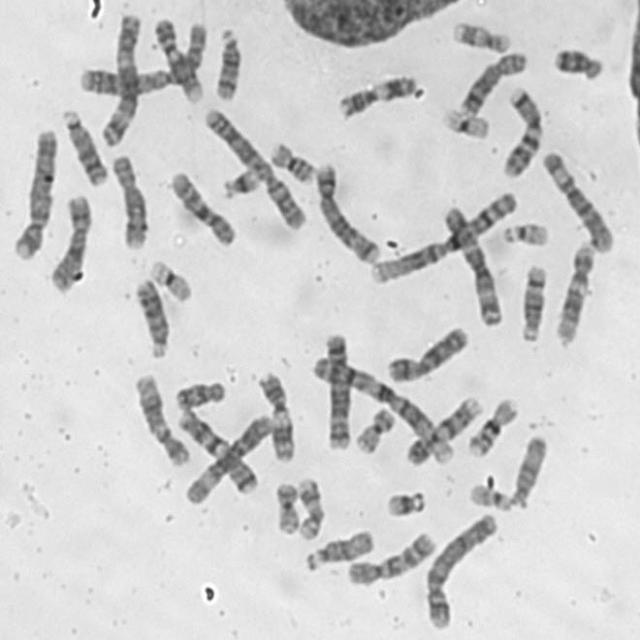A1: (310, 353, 455, 468), (366, 187, 518, 285)
A2: (203, 106, 308, 232), (74, 18, 208, 100)
A3: (439, 200, 505, 328), (97, 8, 143, 148)
B4: (421, 510, 499, 631), (9, 124, 59, 261)
B5: (312, 158, 382, 266), (320, 327, 353, 453)
C10: (166, 166, 237, 250), (344, 527, 439, 587)
C11: (334, 70, 419, 120), (256, 368, 296, 463)
C12: (132, 369, 191, 468), (551, 240, 596, 346)
C6: (180, 410, 274, 508), (538, 146, 616, 255)
C7: (173, 405, 260, 496), (498, 83, 544, 178)
C8: (456, 48, 529, 119), (108, 152, 150, 252)
C9: (401, 392, 484, 467), (149, 15, 204, 104)
D13: (58, 106, 110, 187), (133, 273, 171, 359)
D14: (517, 260, 548, 343), (212, 24, 244, 103)
D15: (302, 526, 375, 572), (508, 432, 549, 510)
E16: (463, 395, 519, 459), (267, 138, 317, 187)
E17: (449, 17, 513, 55), (294, 474, 324, 542)
E18: (548, 41, 606, 83), (172, 375, 228, 412)
F19: (146, 256, 194, 303), (439, 103, 492, 142)
F20: (351, 403, 399, 455), (272, 478, 300, 536)
G21: (218, 163, 264, 201), (382, 485, 429, 519)
G22: (499, 218, 551, 248), (466, 480, 512, 512)
X: (383, 322, 470, 385), (46, 190, 94, 295)
